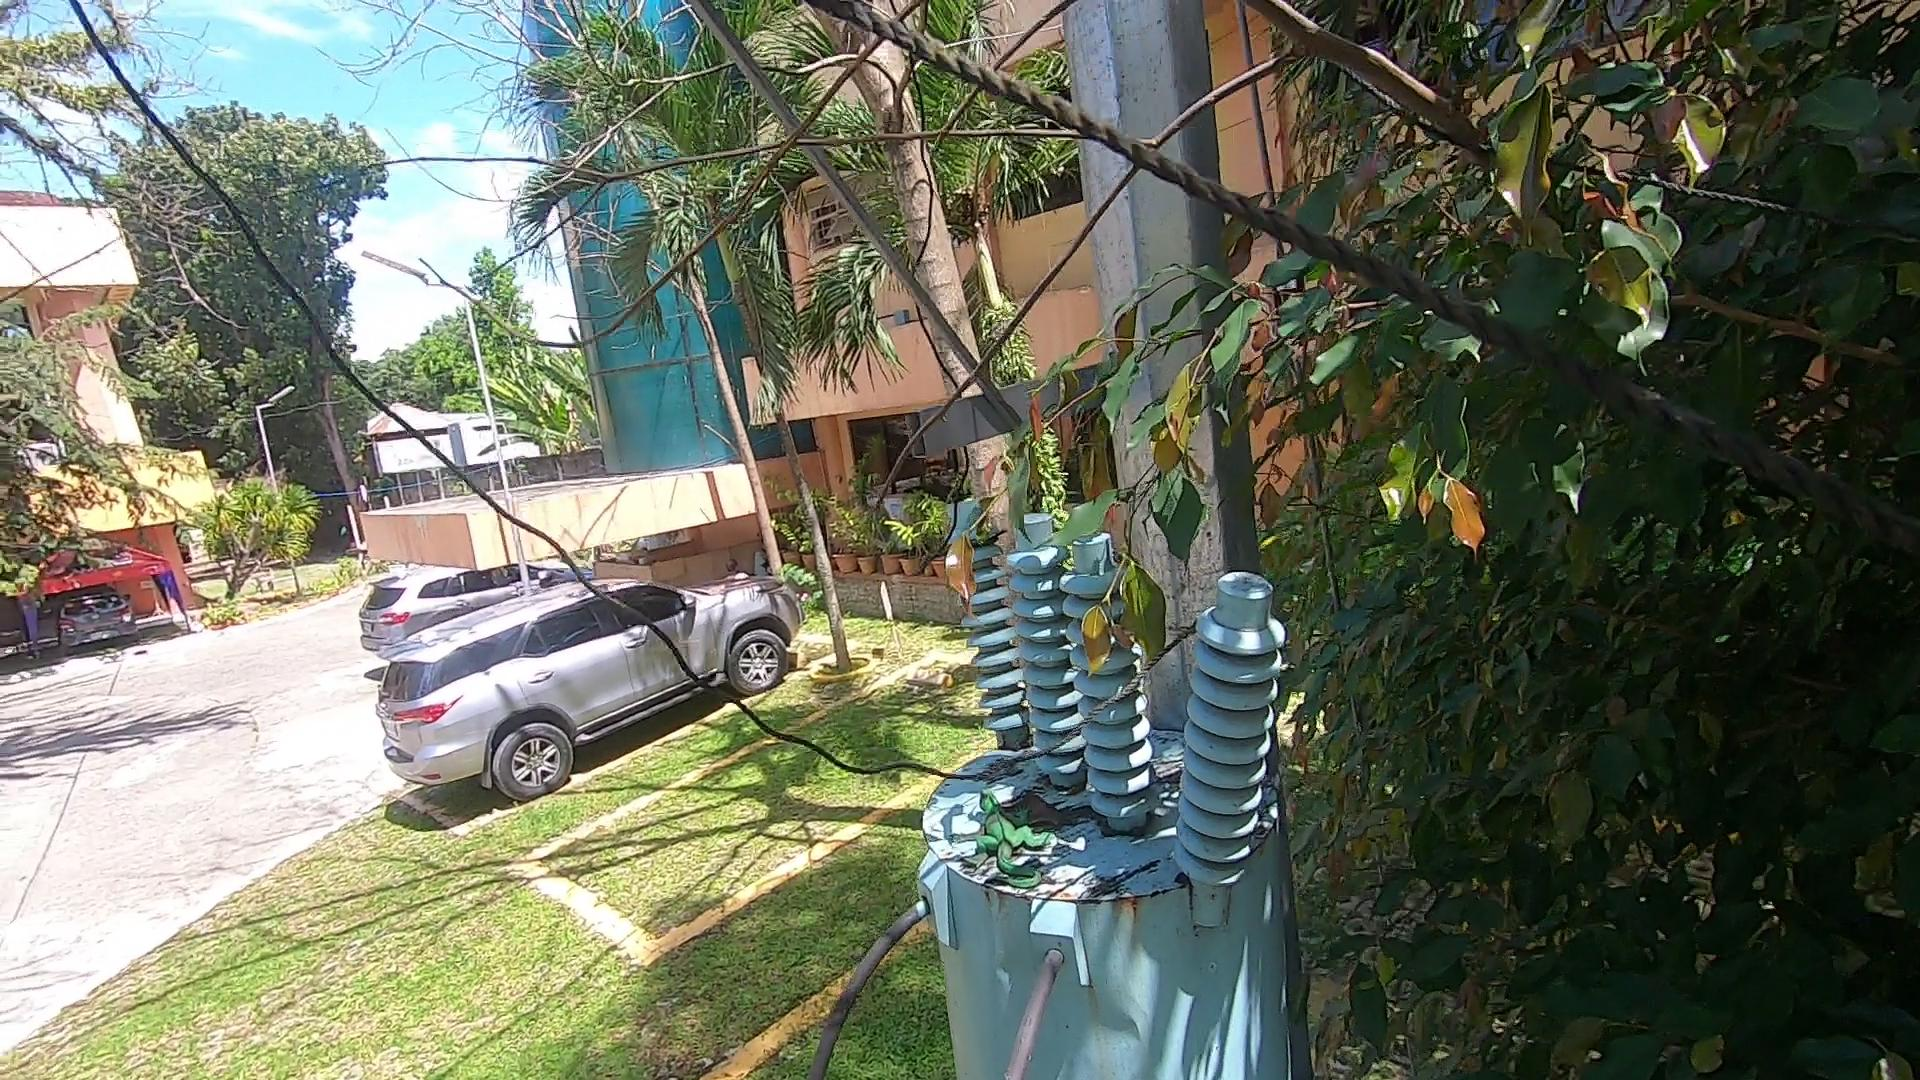leaf: (1004, 774, 1083, 836)
tree branch: (3, 1, 1586, 535)
